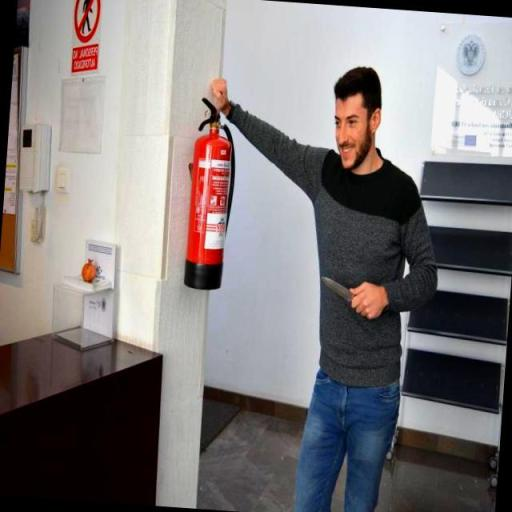knife: (319, 276, 355, 302)
